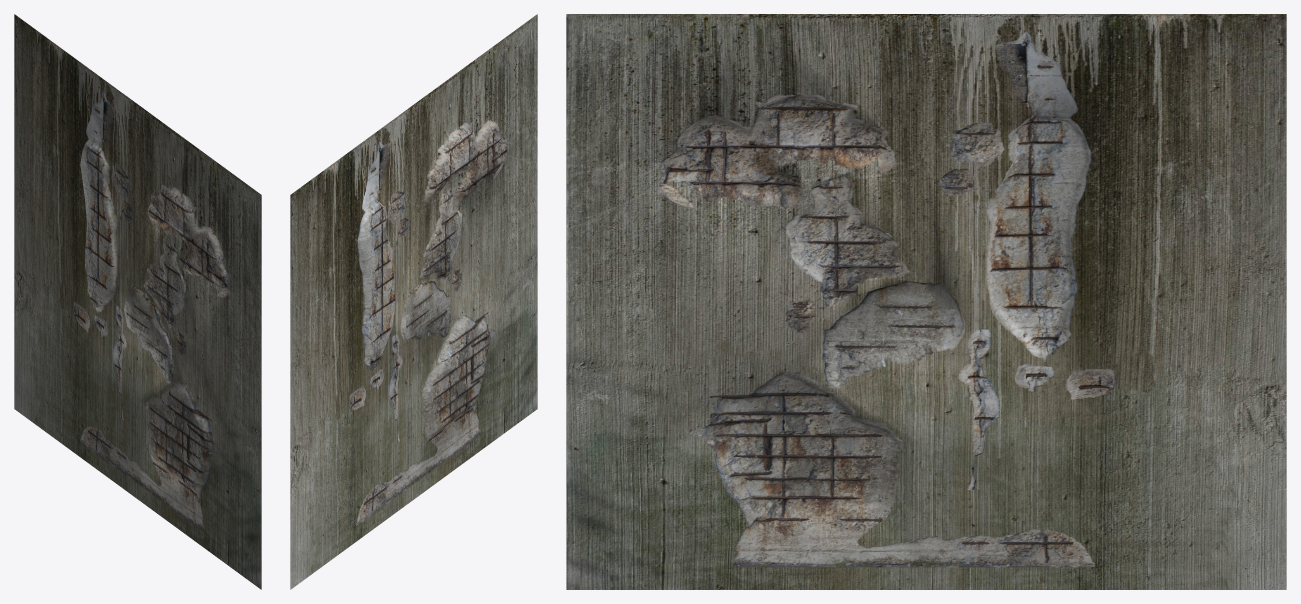
The model's file is BrokenWall.FBX.
3 renders of one model, left to right at view 1: azimuth 30°, elevation 25°; view 2: azimuth 150°, elevation 25°; view 3: azimuth 270°, elevation 25°, orthographic. The views are drawn at different scales.
Parts seen in each view (by area): view 1: Broken_Wall_Example; view 2: Broken_Wall_Example; view 3: Broken_Wall_Example.
Boxes of the visible parts, x1,y1,x2,y2 form: Broken_Wall_Example: (14,14,261,589); Broken_Wall_Example: (290,14,537,589); Broken_Wall_Example: (566,14,1286,589).
Size of the model in its own units: 0.1923 by 15 by 17.
1 material, 1 textured.
